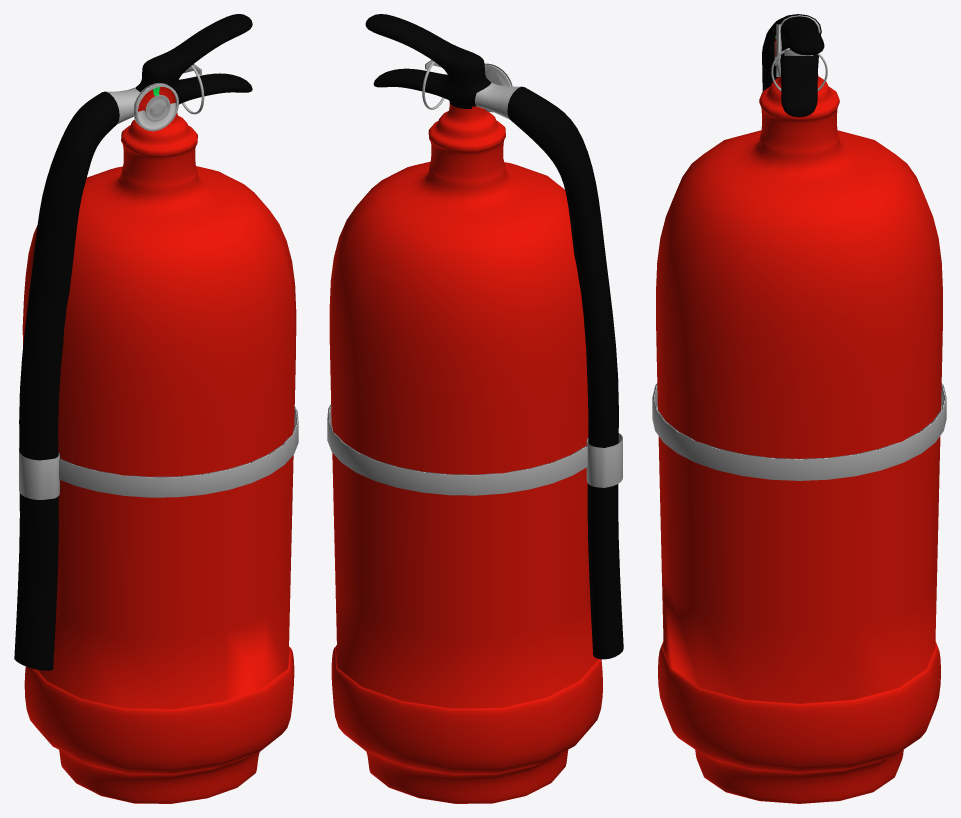
Rendered from FIreOriginfbx.fbx.
3 renders of one model, left to right at view 1: azimuth 30°, elevation 25°; view 2: azimuth 150°, elevation 25°; view 3: azimuth 270°, elevation 25°, orthographic. The views are drawn at different scales.
Parts seen in each view (by area): view 1: Circle.002; view 2: Circle.002; view 3: Circle.002.
Boxes of the visible parts, x1,y1,x2,y2 form: Circle.002: [14, 14, 298, 803]; Circle.002: [327, 14, 623, 803]; Circle.002: [652, 14, 946, 803].
Size of the model in its own units: 193 by 498 by 174.
